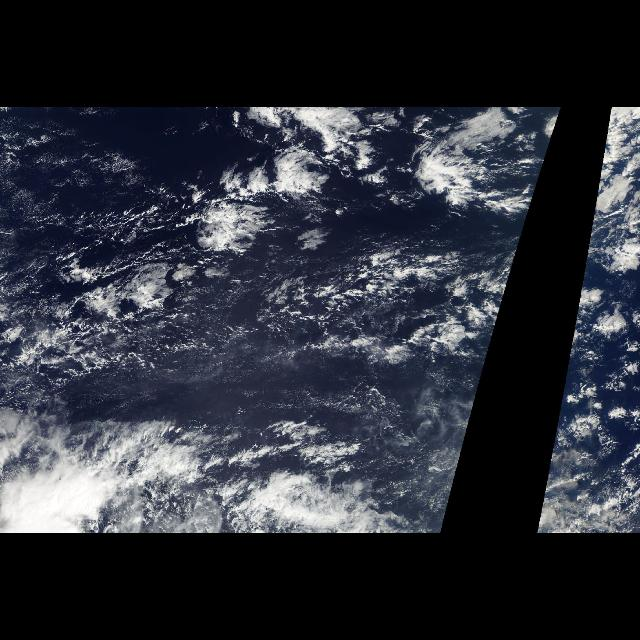Flower: (185, 128, 531, 284)
Gravel: (0, 253, 496, 392)
Sugar: (103, 315, 460, 421)
